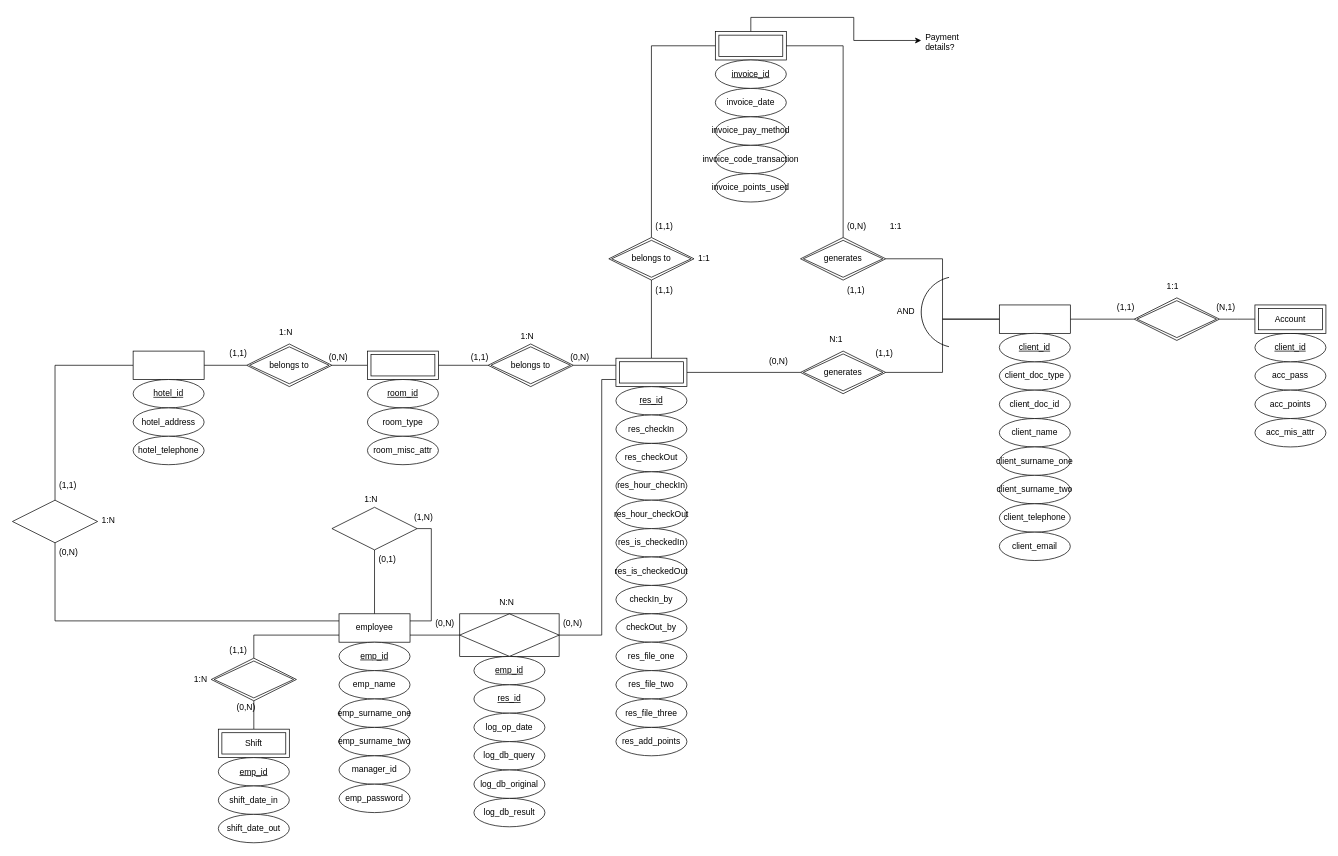
The diagram is 1338 pixels wide and 856 high, and some of its shapes have lost their labels. Here are the shapes that lost their labels. From the top down, the centre of each, then its label:
At pixel 750 45: "Invoice".
At pixel 1034 318: "Client".
At pixel 1176 318: "creates account".
At pixel 168 364: "Hotel".
At pixel 402 364: "Room".
At pixel 651 372: "Reservation".
At pixel 55 521: "asigned to".
At pixel 374 528: "Is boss of".
At pixel 509 634: "Employee Log".
At pixel 253 679: "punches".
